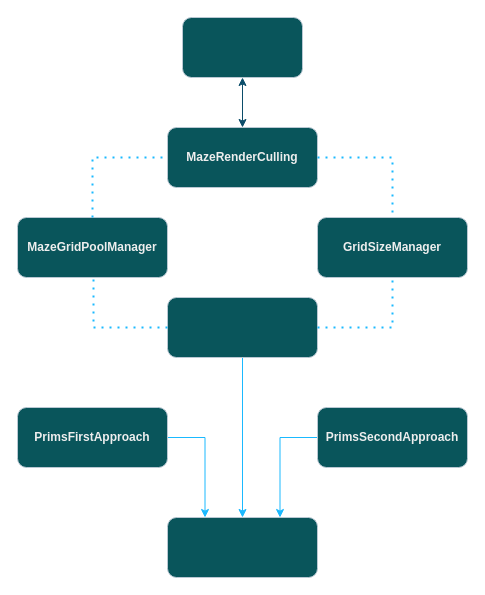
Image size: 485x595. Some labels were removed from this diagram. Here are the shapes that lost their labels. From the top down, the box of each, then its label:
(182, 16, 302, 78): MazeGenerator
(166, 296, 318, 358): MazeDictMeshRenderer
(166, 516, 318, 578): PrimsHelperMethods
